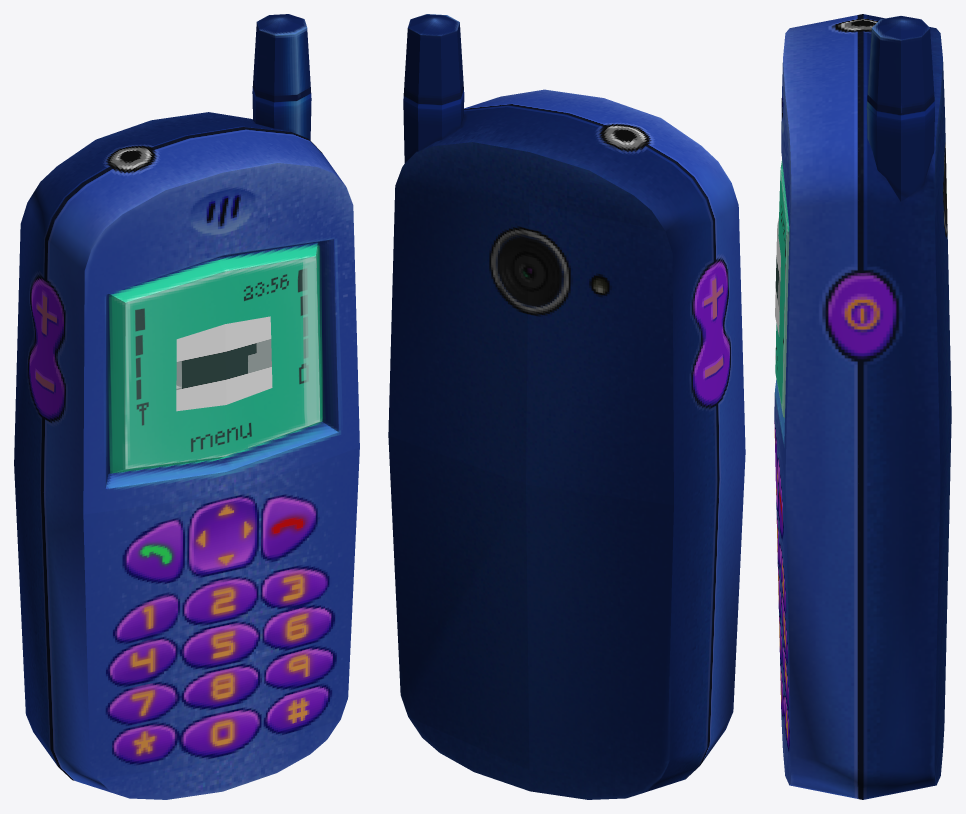
The model's file is cellphone.fbx.
The picture shows the model from 3 angles, left to right: view 1: azimuth 30°, elevation 25°; view 2: azimuth 150°, elevation 25°; view 3: azimuth 270°, elevation 25°; orthographic projection. The views are drawn at different scales.
Visible parts, largest first — view 1: P_cellphone, P_screen01; view 2: P_cellphone; view 3: P_cellphone, P_screen01.
Boxes of the visible parts, x1,y1,x2,y2 form: P_cellphone: (14,14,359,799); P_screen01: (176,316,272,411); P_cellphone: (388,14,745,799); P_cellphone: (774,14,951,799); P_screen01: (775,218,780,336).
Bounding box in the file's own units: 0.568 × 1.33 × 0.2673.
Materials: 2 (2 with a texture image).
